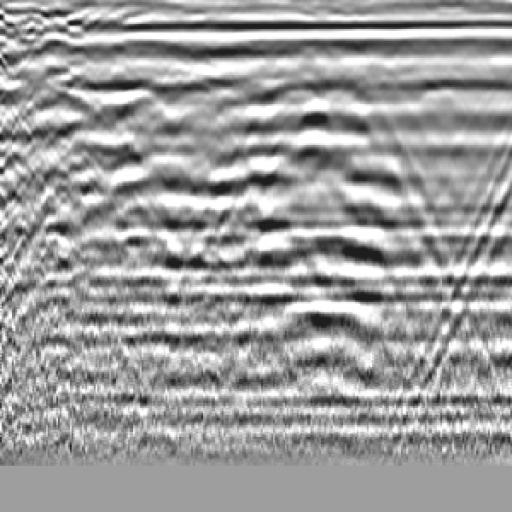metalic: (249, 61, 403, 190)
